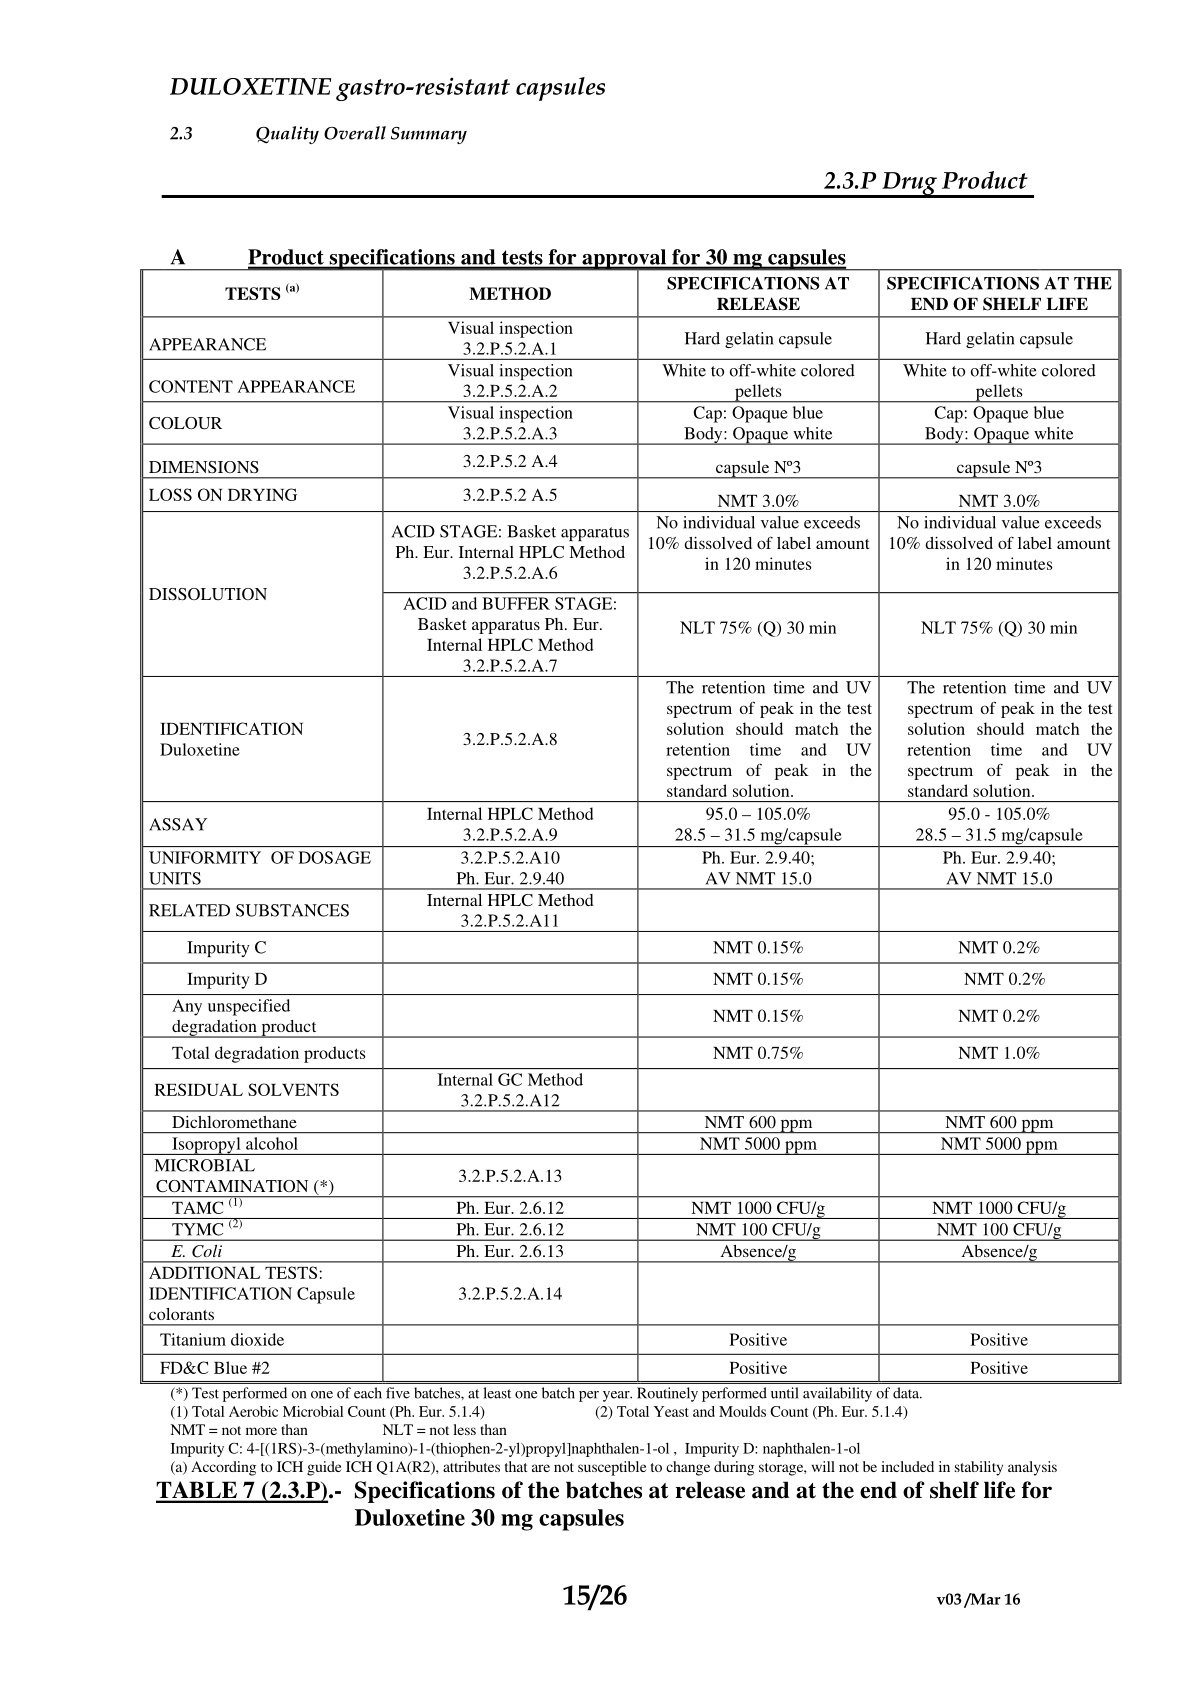full_lined: (140, 268, 1121, 1385)
